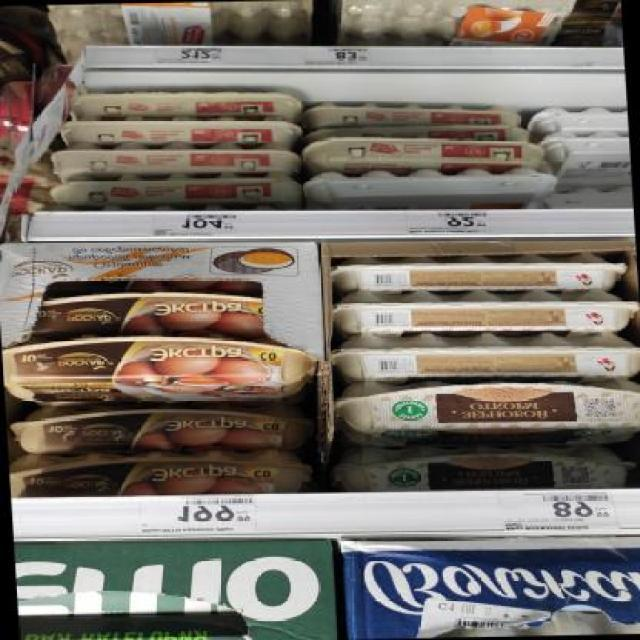Egg: (1, 331, 315, 404), (336, 376, 640, 449), (10, 401, 316, 455), (333, 441, 639, 493), (9, 449, 315, 500), (26, 290, 263, 336), (302, 135, 548, 173), (50, 172, 302, 209), (50, 140, 302, 177), (56, 115, 307, 149), (62, 89, 313, 123), (309, 98, 521, 130)
